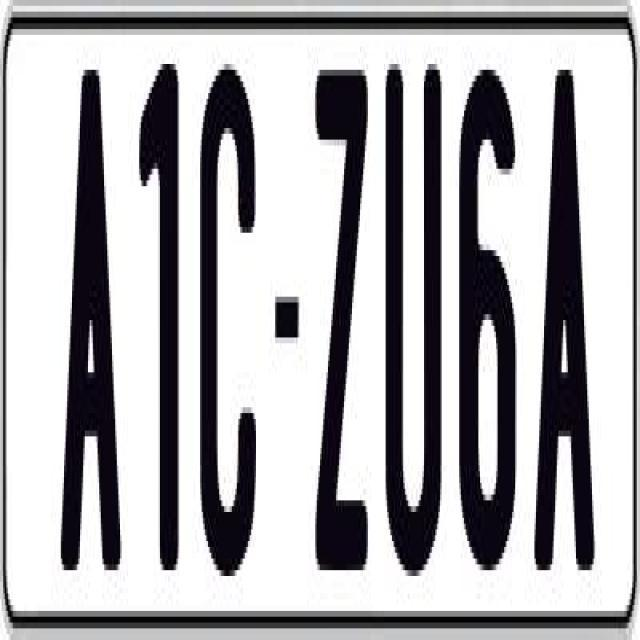1: (134, 52, 173, 564)
6: (454, 52, 510, 582)
A: (56, 58, 122, 564), (530, 70, 592, 606)
C: (200, 70, 261, 594)
U: (384, 58, 448, 576)
Z: (314, 58, 366, 570)
